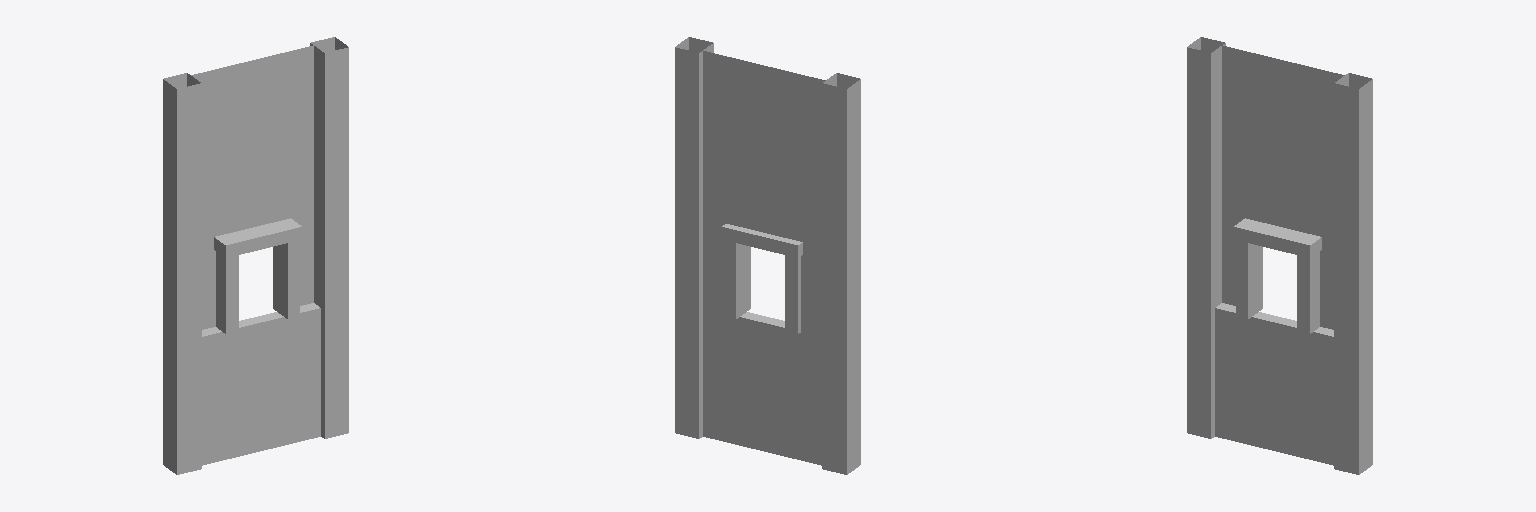
Rendered from dungeon_wall_door.obj.
3 renders of one model, left to right at view 1: azimuth 30°, elevation 25°; view 2: azimuth 150°, elevation 25°; view 3: azimuth 330°, elevation 25°, orthographic.
Parts seen in each view (by area): view 1: wall, pillar, cube; view 2: wall, pillar, cube; view 3: wall, pillar, cube.
Boxes of the visible parts, box(x1,y1,x2,y2) form: wall: box(191, 45, 320, 465); pillar: box(163, 37, 348, 474); cube: box(214, 218, 301, 333); wall: box(703, 51, 825, 465); pillar: box(675, 37, 860, 474); cube: box(722, 224, 802, 333); wall: box(1215, 45, 1344, 465); pillar: box(1187, 37, 1372, 474); cube: box(1234, 218, 1321, 333).
Bounding box in the file's own units: 7 × 15 × 1.12.